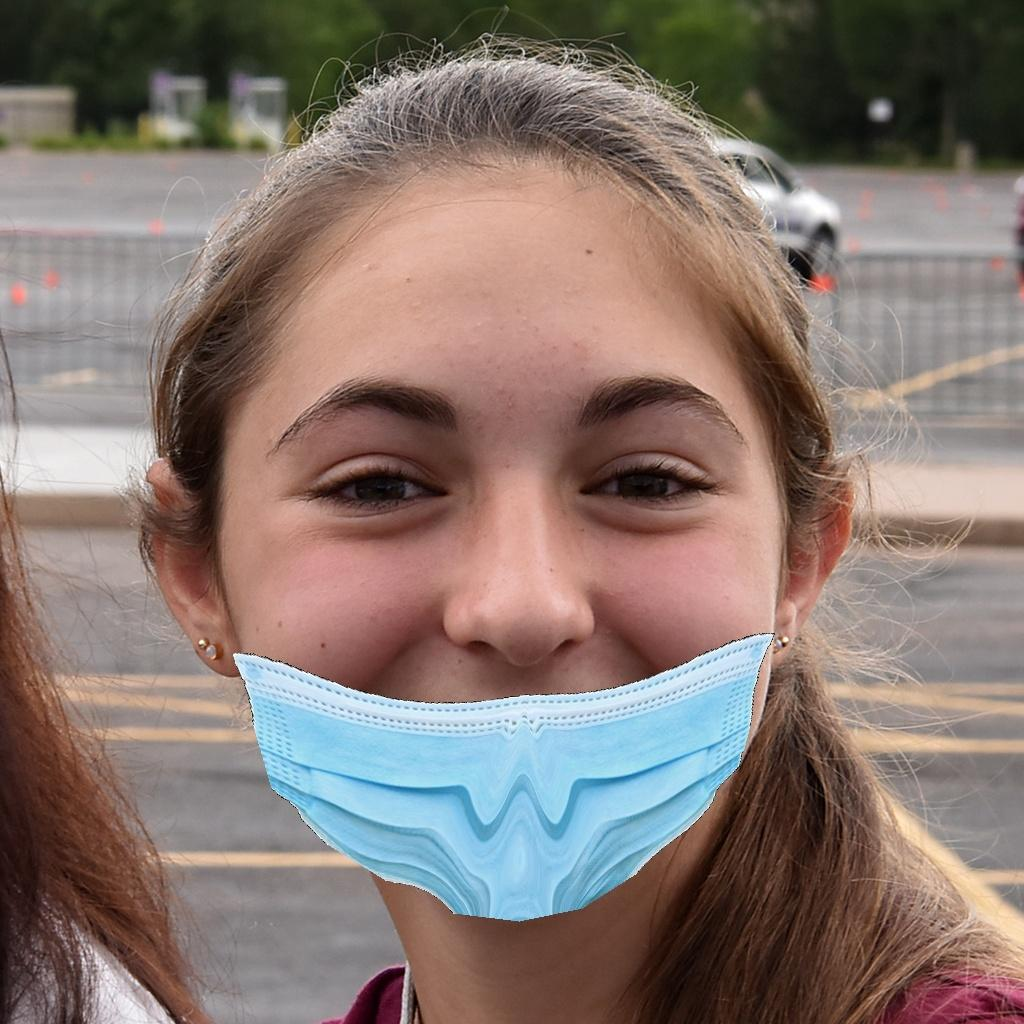Máscara Incorreta: (223, 378, 778, 892)
